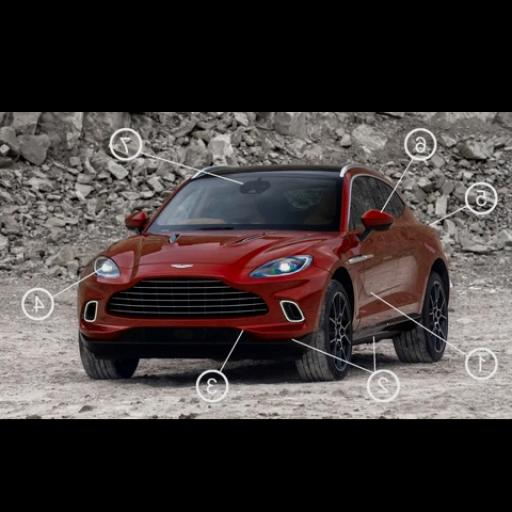suv: (79, 166, 450, 379)
